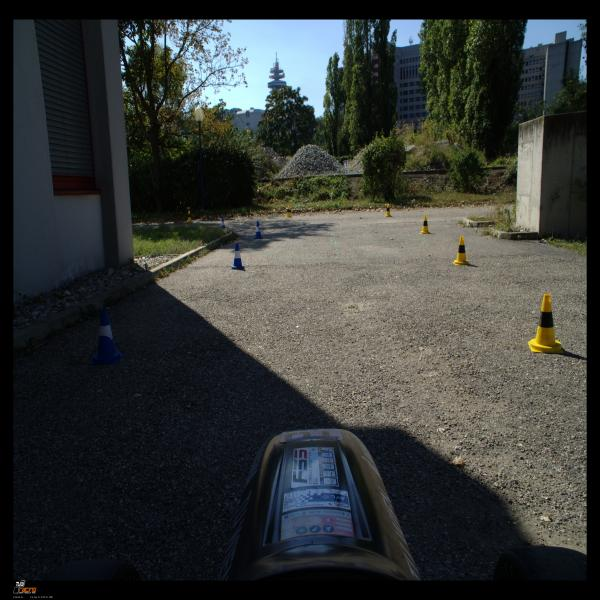blue_cone: (91, 308, 124, 364), (230, 243, 246, 270), (253, 222, 264, 240), (221, 217, 225, 229)
yellow_cone: (528, 294, 564, 354), (452, 236, 470, 266), (419, 215, 432, 234), (384, 203, 392, 217), (186, 211, 193, 222), (286, 205, 291, 218)
